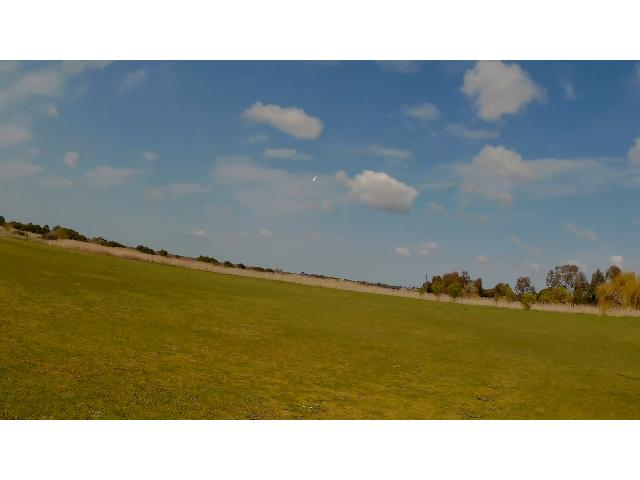Anti-Drone: (302, 169, 330, 189)
